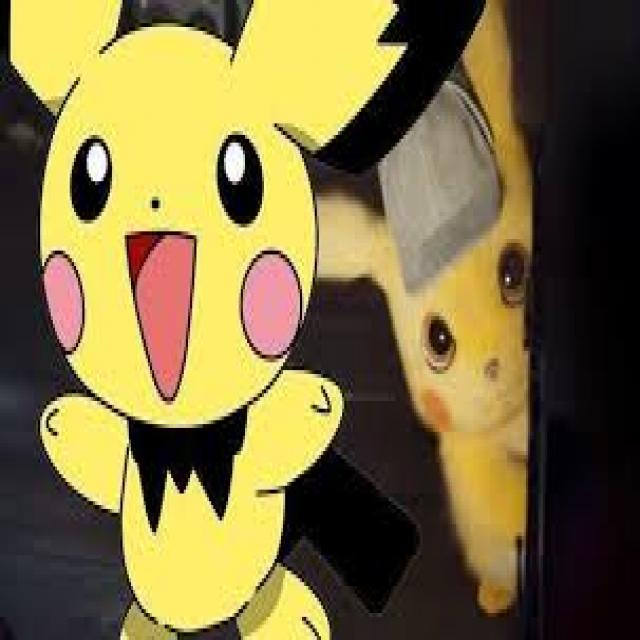pichu: (11, 0, 478, 640)
